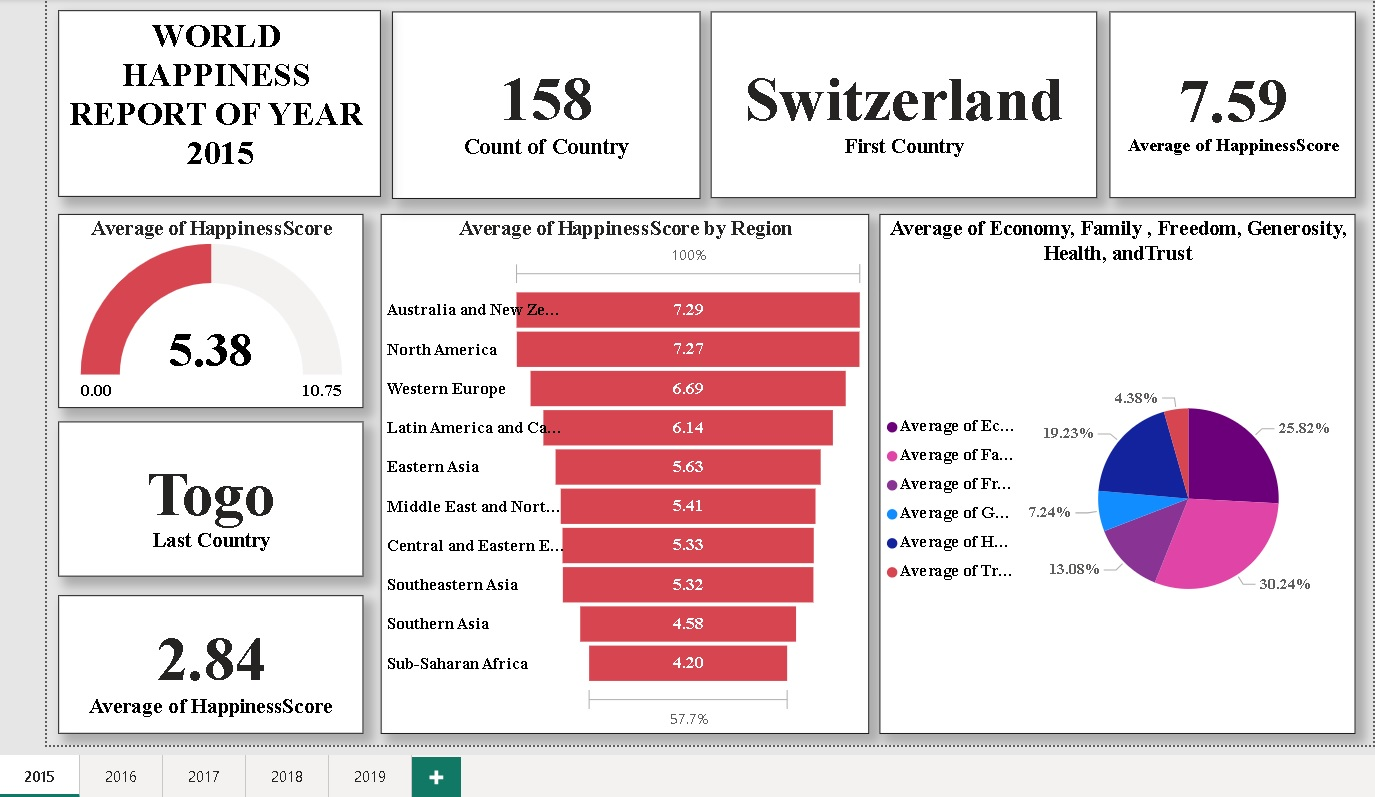

The page's visual inventory and layout, read from the dashboard file:
{"tool":"powerbi","page":{"name":"2015","canvas":[1280,720],"ordinal":0},"visuals":[{"type":"funnel","fields":{"Category":["processedhwr2015.Region"],"Y":["Avg(processedhwr2015.HappinessScore)"]},"box":[322,207.4,471.6,501.7],"z":0},{"type":"pieChart","title":"Average of Economy, Family , Freedom, Generosity, Health, andTrust","fields":{"Y":["Avg(processedhwr2015.Economy )","Avg(processedhwr2015.Family)","Avg(processedhwr2015.Freedom)","Avg(processedhwr2015.Generosity)","Avg(processedhwr2015.Health)","Avg(processedhwr2015.Trust)"]},"box":[803.2,207.4,459.5,501.7],"z":1000},{"type":"card","fields":{"Values":["Count(processedhwr2015.Country)"]},"box":[332.9,12.1,297.9,180.9],"z":2000},{"type":"gauge","fields":{"Y":["Avg(processedhwr2015.HappinessScore)"]},"box":[10.9,207.4,294.3,186.9],"z":3000},{"type":"card","fields":{"Values":["Min(processedhwr2015.Country)"]},"box":[640.4,12.1,372.7,179.7],"z":4000},{"type":"card","fields":{"Values":["Max(processedhwr2015.Country)"]},"box":[10.9,407.6,294.3,149.5],"z":5000},{"type":"card","fields":{"Values":["Avg(processedhwr2015.HappinessScore)"]},"box":[1025.1,12.1,237.6,179.7],"z":6000},{"type":"card","fields":{"Values":["Avg(processedhwr2015.HappinessScore)"]},"box":[10.9,575.3,294.3,133.9],"z":7000},{"type":"textbox","box":[10.9,10.9,311.2,179.7],"z":8000}]}

Visuals, with their boxes on the page's 1280x720 design canvas (x1, y1, x2, y2). These are canvas units, not pixel positions in the 1375x797 screenshot, which may show the page scaled, cropped or inside an application window:
funnel - processedhwr2015.Region x Avg(processedhwr2015.HappinessScore): 322 207 794 709
"Average of Economy, Family , Freedom, Generosity, Health, andTrust" pieChart: 803 207 1263 709
card - Count(processedhwr2015.Country): 333 12 631 193
gauge - Avg(processedhwr2015.HappinessScore): 11 207 305 394
card - Min(processedhwr2015.Country): 640 12 1013 192
card - Max(processedhwr2015.Country): 11 408 305 557
card - Avg(processedhwr2015.HappinessScore): 1025 12 1263 192
card - Avg(processedhwr2015.HappinessScore): 11 575 305 709
textbox: 11 11 322 191
